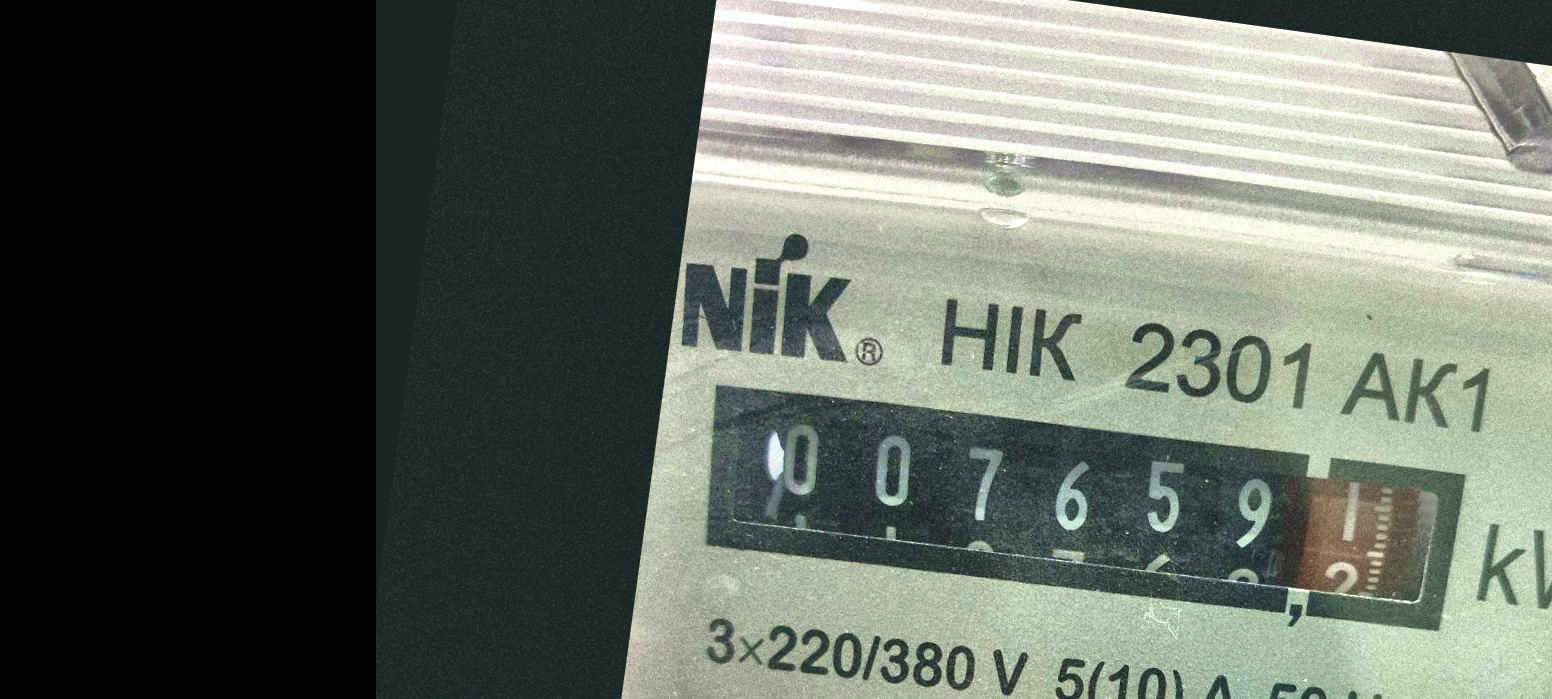0: (858, 422, 926, 515), (771, 411, 832, 507)
1: (1331, 472, 1375, 551)
5: (1136, 451, 1192, 539)
6: (1042, 448, 1104, 537)
7: (955, 438, 1008, 528)
9: (1226, 467, 1280, 560)
screen: (674, 348, 1489, 668)
